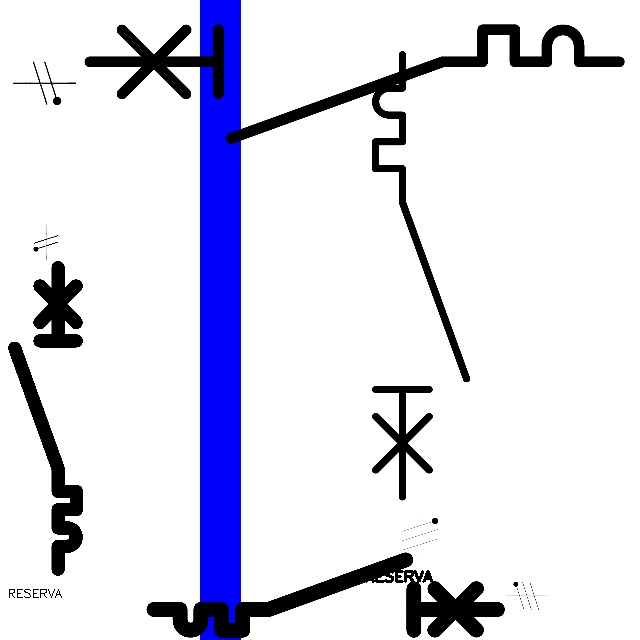interruptor_termomagnetico: (76, 16, 633, 152), (364, 43, 478, 508), (145, 551, 506, 639), (7, 259, 84, 576)
